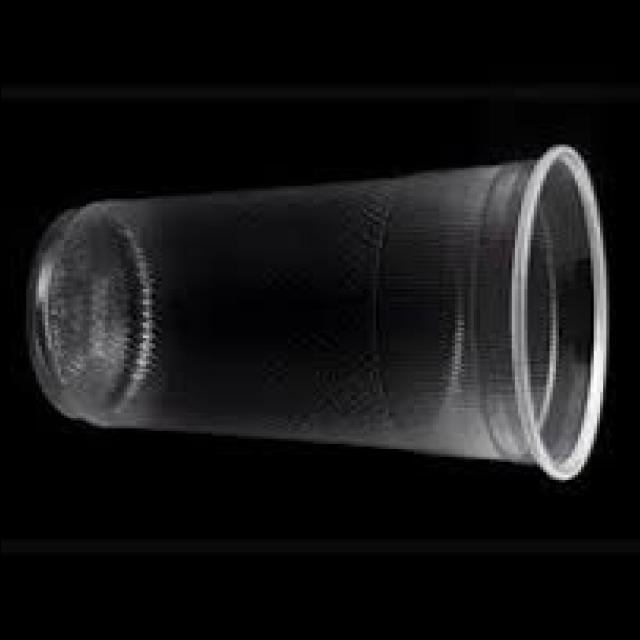plastic: (28, 146, 606, 480)
